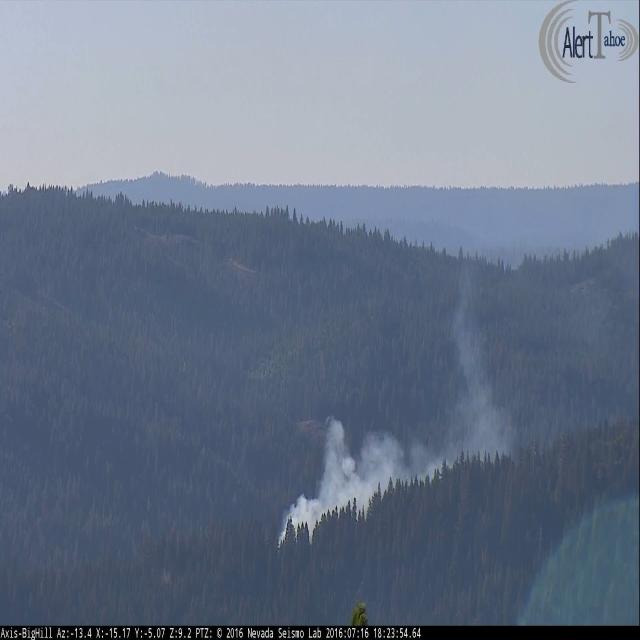smoke: (277, 276, 520, 556)
